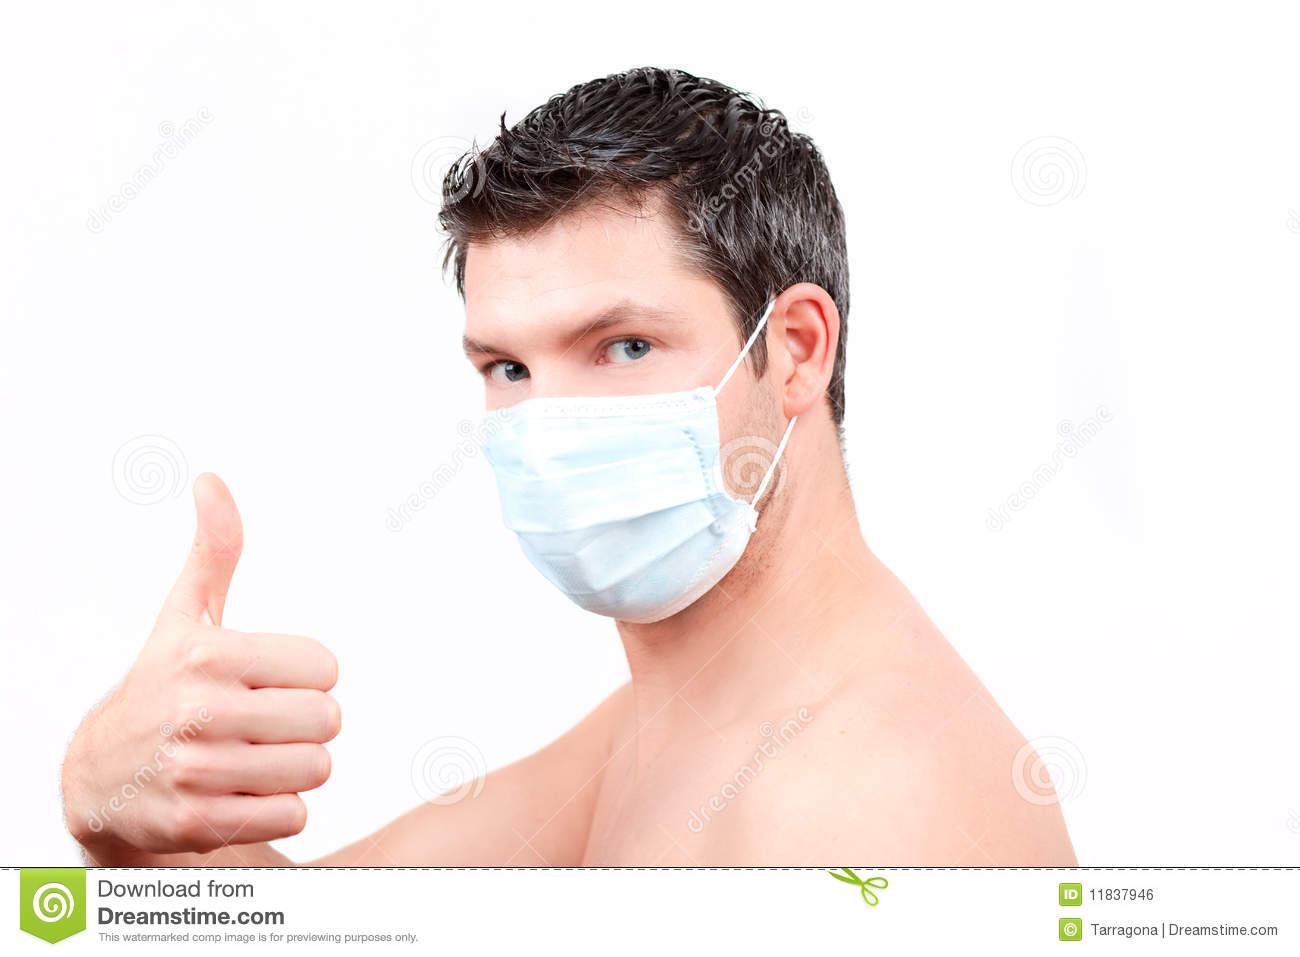mask: (472, 394, 748, 619)
